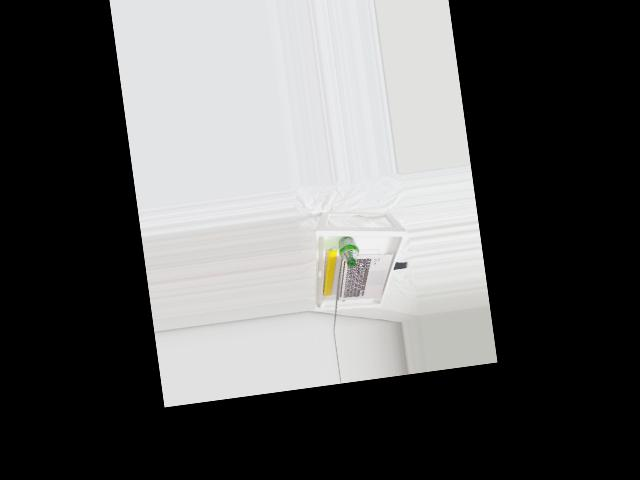beer: (337, 234, 360, 268)
